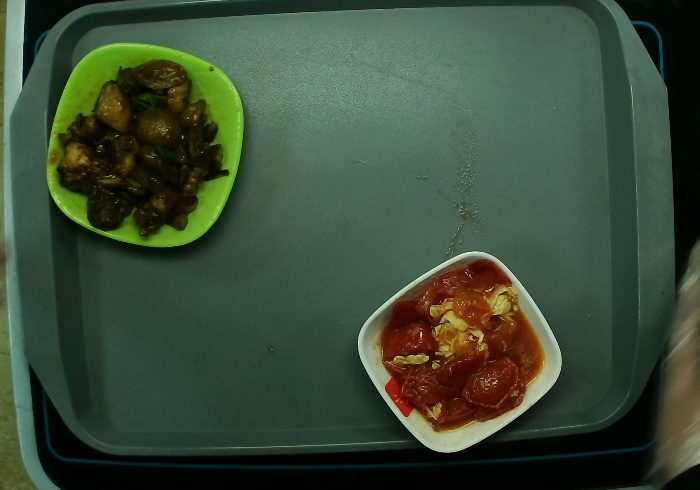SHKJ-Bai_Se_Xiao_Fang_Die: (357, 250, 563, 457)
SHKJ-Lv_Se_Cai_Die: (44, 40, 248, 254)
